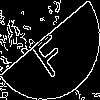F: (25, 25, 71, 80)
